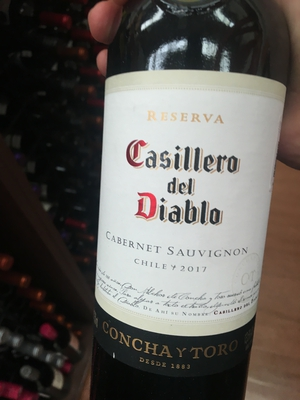casillero del diablo cabernet sauvignon: (82, 13, 289, 400)
